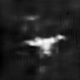plane: (21, 34, 67, 58)
